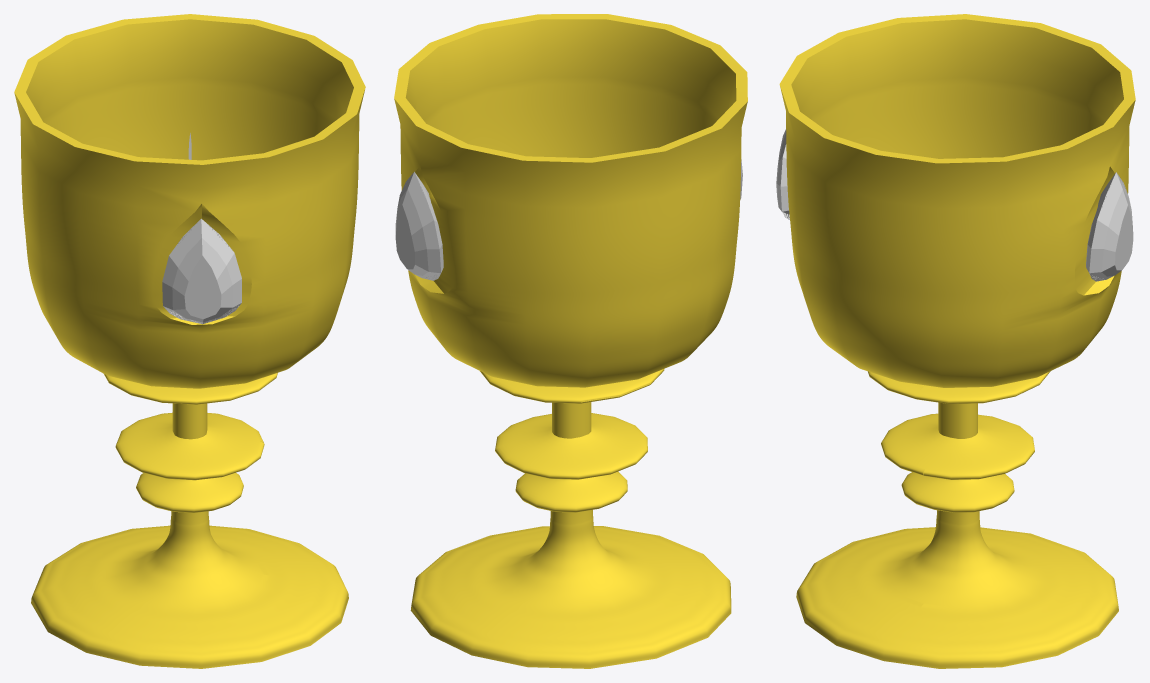
Rendered from Goblet.fbx.
3 views of the same model, side by side, from view 1: azimuth 30°, elevation 25°; view 2: azimuth 150°, elevation 25°; view 3: azimuth 270°, elevation 25° (orthographic).
Visible parts, largest first — view 1: Goblet, Ruby; view 2: Goblet, Ruby; view 3: Goblet, Ruby.
Boxes of the visible parts, x1,y1,x2,y2 form: Goblet: (14, 14, 365, 668); Ruby: (162, 133, 241, 324); Goblet: (394, 14, 747, 668); Ruby: (395, 159, 742, 280); Goblet: (779, 14, 1135, 668); Ruby: (776, 129, 1133, 281).
Bounding box in the file's own units: 662 × 1059 × 673.
